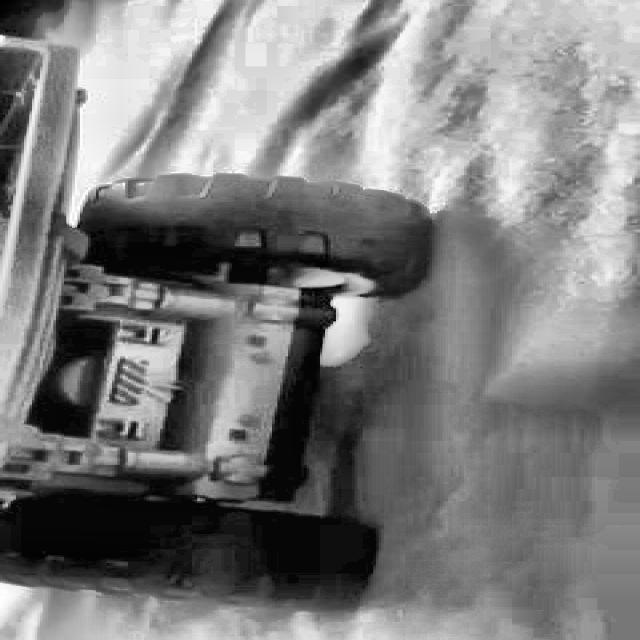dump_truck: (0, 30, 405, 608)
